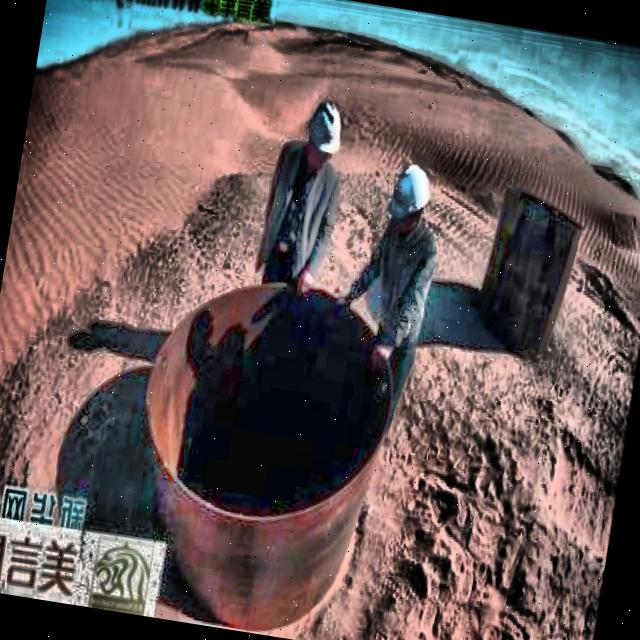helmet: (382, 159, 436, 242), (298, 90, 349, 176)
